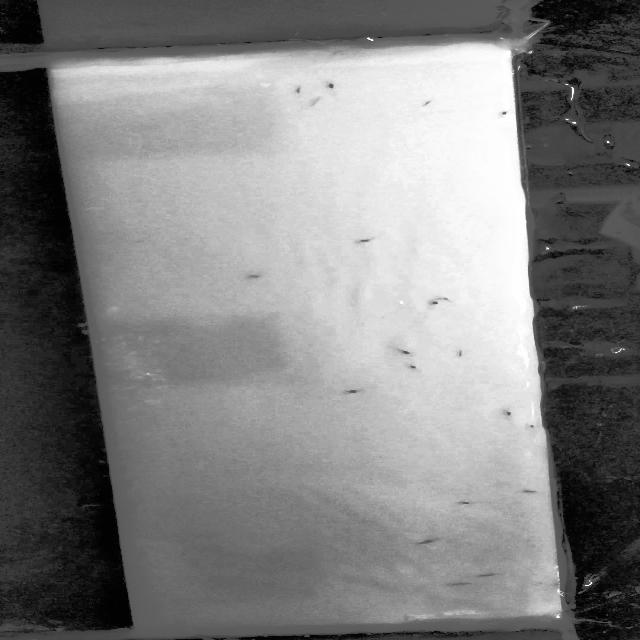shrimp: (414, 98, 442, 112), (443, 580, 481, 590), (471, 568, 502, 579), (414, 535, 444, 546), (514, 487, 547, 496), (322, 79, 342, 93), (389, 346, 416, 356), (246, 273, 276, 282), (502, 403, 518, 419), (306, 95, 323, 110), (436, 292, 458, 303), (341, 386, 365, 396), (287, 84, 308, 95), (357, 236, 379, 245), (426, 297, 443, 308), (454, 501, 480, 508), (490, 108, 506, 119), (523, 421, 538, 432), (403, 364, 426, 371), (454, 348, 466, 357)
